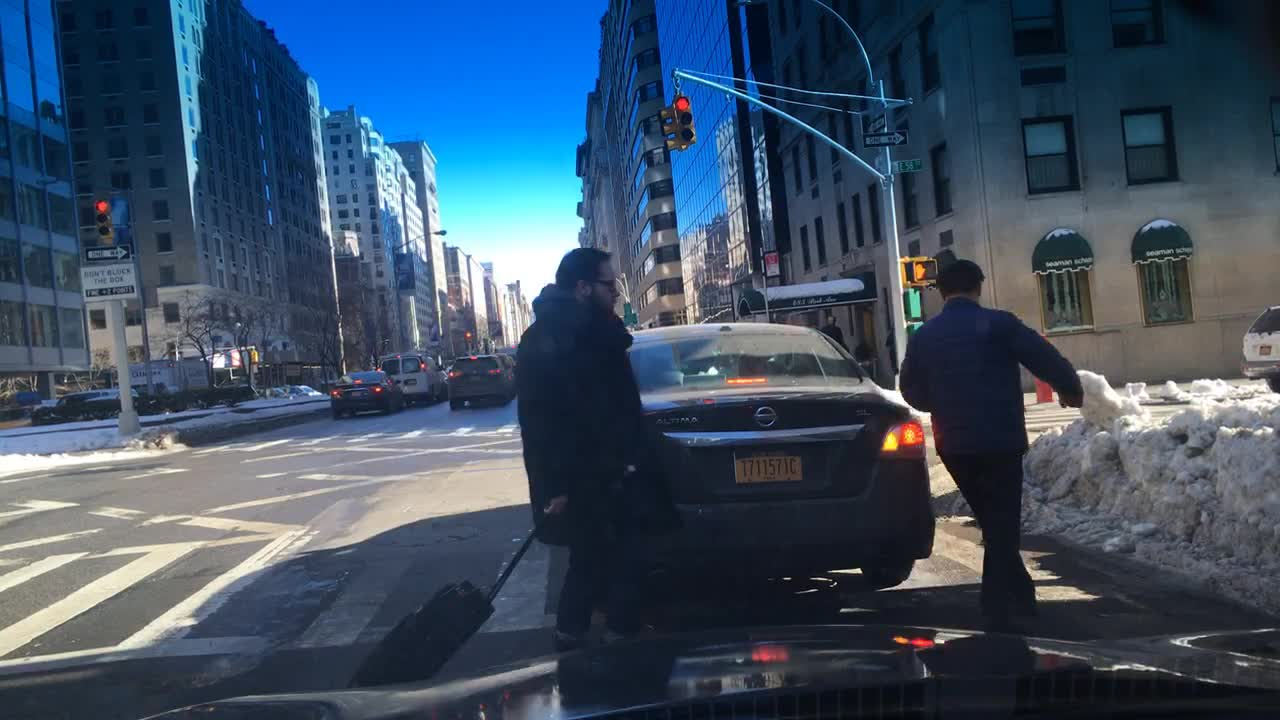car: (627, 321, 935, 587), (24, 388, 137, 425), (446, 354, 515, 408), (379, 352, 446, 403), (331, 370, 403, 417), (1242, 305, 1279, 391), (494, 353, 518, 371), (293, 385, 322, 394), (280, 385, 301, 397), (269, 386, 286, 398), (509, 352, 519, 363), (445, 364, 454, 372)
person: (898, 255, 1083, 622), (516, 245, 682, 650), (822, 315, 850, 350)
traffic light: (672, 95, 696, 149), (900, 256, 937, 287), (655, 105, 679, 149), (93, 194, 111, 237), (464, 331, 472, 342), (251, 349, 256, 361)
traffic sign: (77, 261, 138, 301), (863, 129, 910, 148), (85, 244, 131, 261), (890, 159, 921, 172), (764, 251, 779, 276), (623, 302, 637, 324), (866, 116, 886, 130)
truck: (125, 356, 205, 411)
